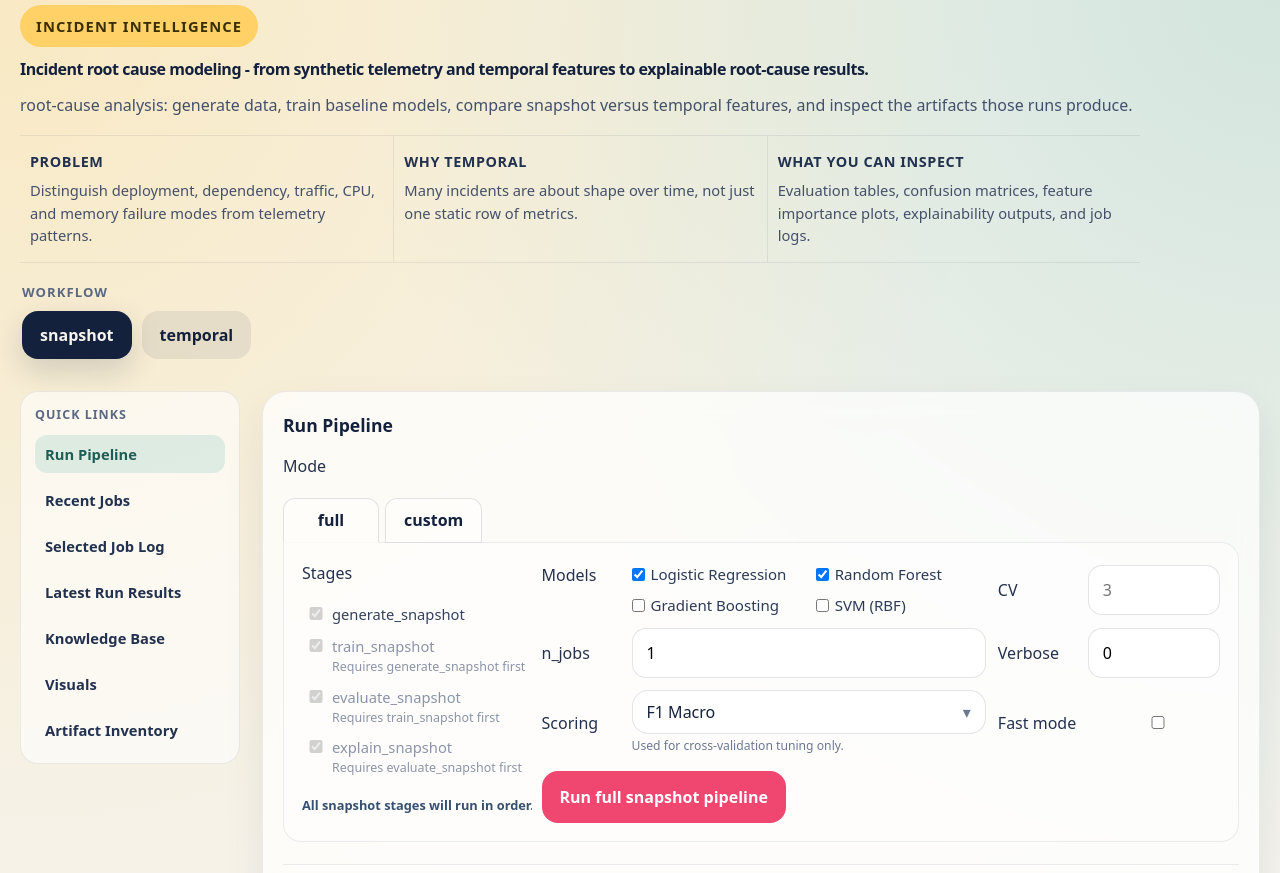
App › collapsing a selected custom run resets the form to a fresh staged run
The width and height of the screenshot is (1280, 873).
Click the button "custom": {"x": 434, "y": 521} [385, 498, 482, 543]
(page scrolled)
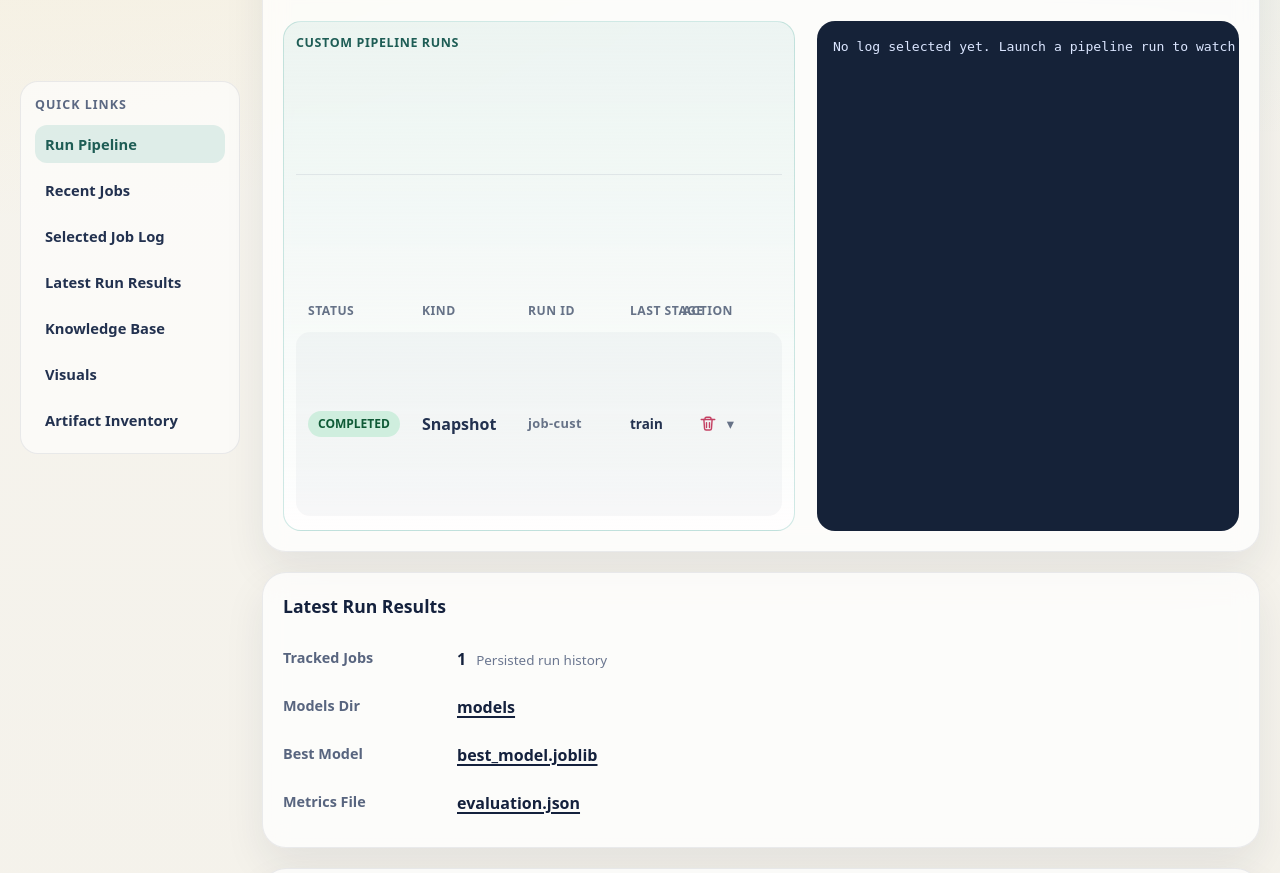
Click the button "completed snapshot job-cust train ▾": {"x": 472, "y": 424} [308, 411, 636, 437]
(page scrolled)
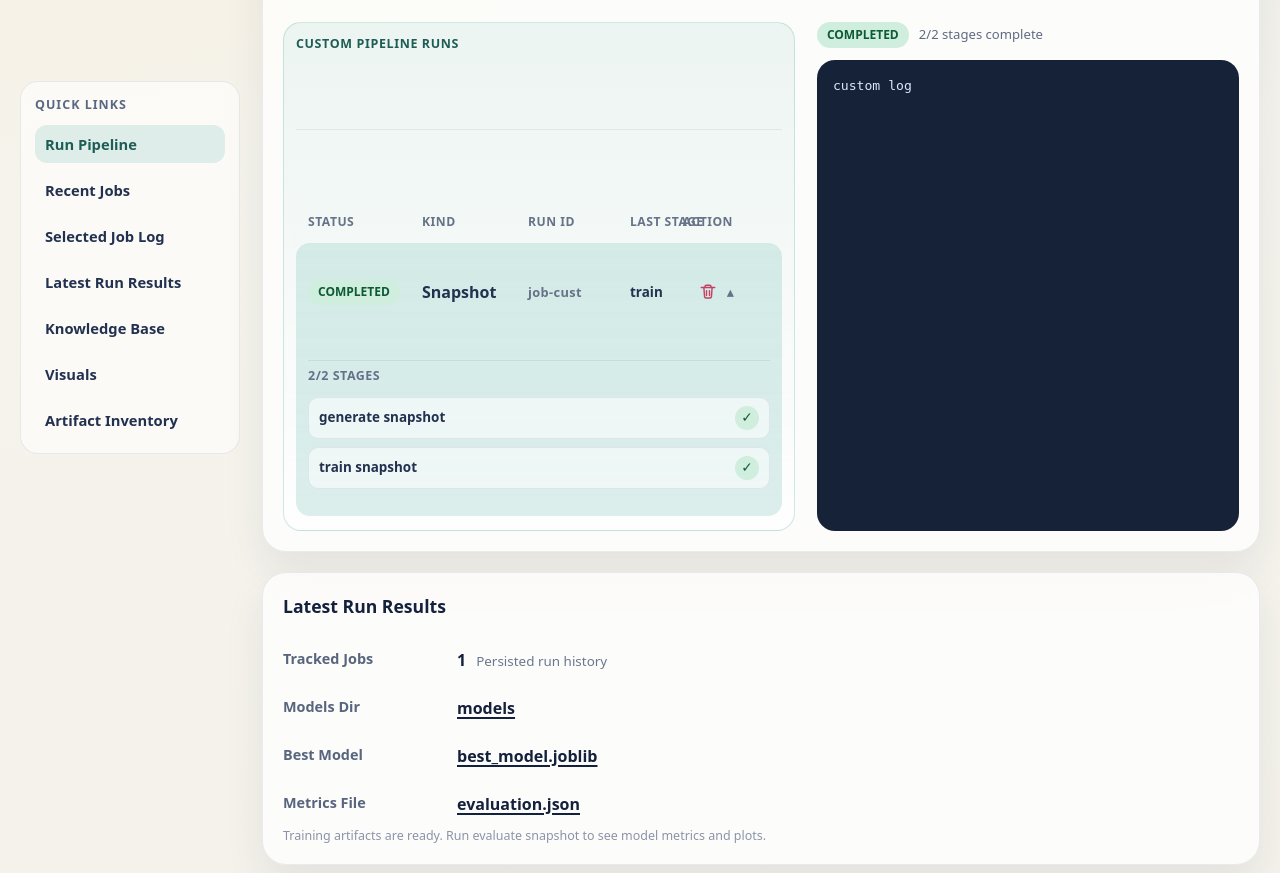
Expected: the text "custom log" is shown, [817, 60, 1239, 531]
Click the button "completed snapshot job-cust train ▴": {"x": 472, "y": 292} [308, 280, 636, 306]
(page scrolled)
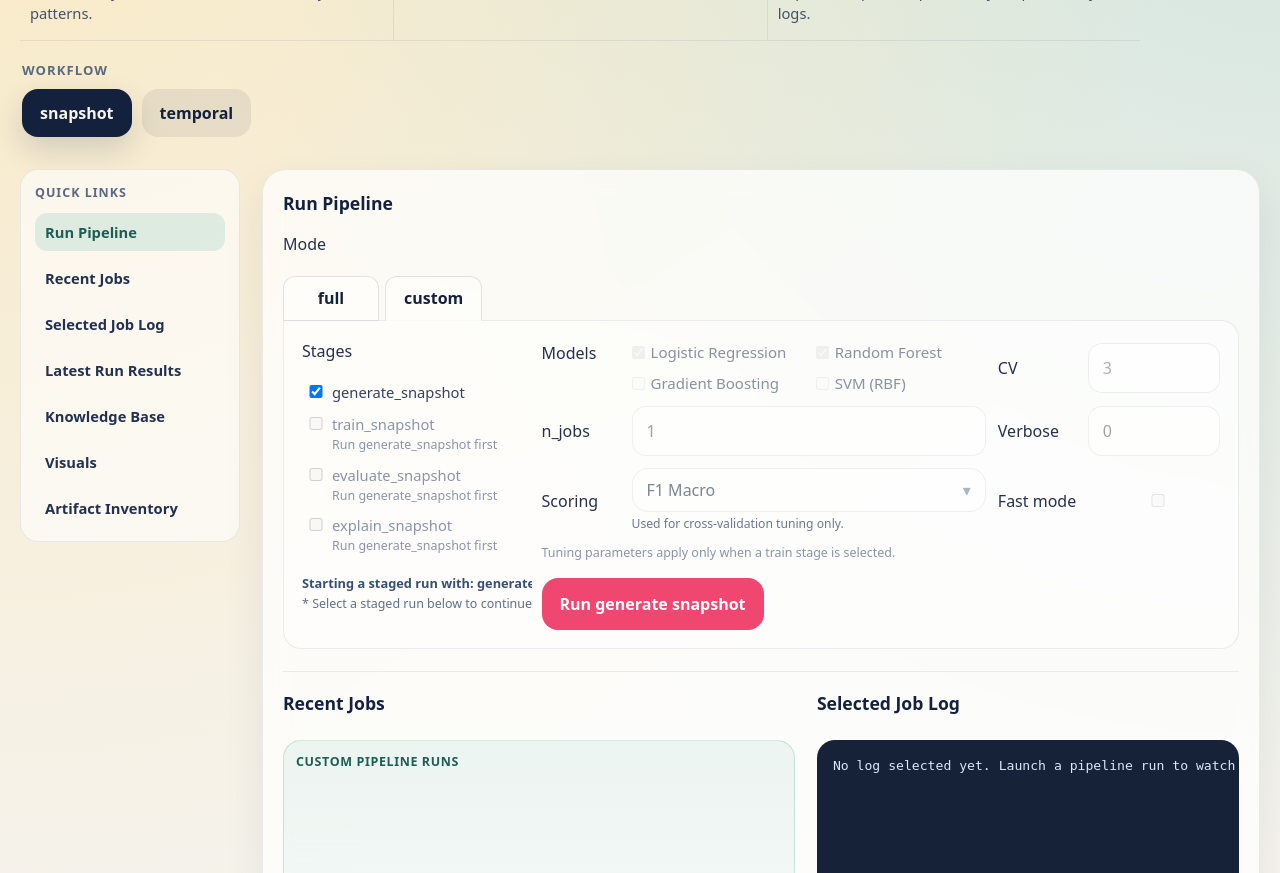
Expected: the text "Starting a staged run with: generate_snapshot" is shown, [302, 575, 532, 592]
Expected: the text "custom log" is gone
Expected: the checkbox labelled "generate_snapshot" is enabled, [306, 385, 326, 398]
